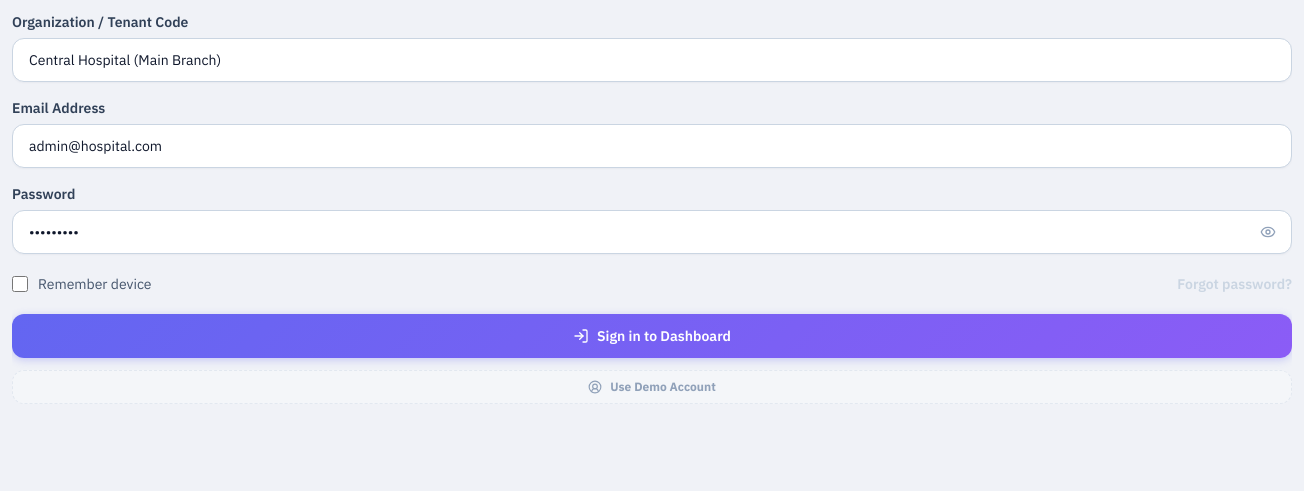
LoginForm › Form Submission › shows error message on failed login
Click the button "Sign in to Dashboard". click: (652, 336)
box: [12, 314, 1292, 358]
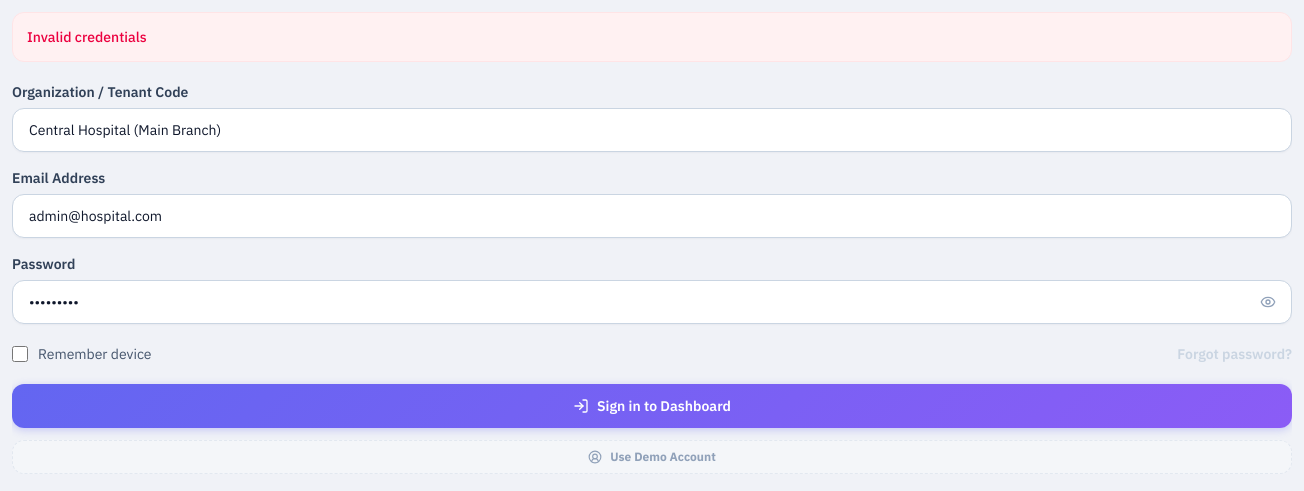
Expected: the text "Invalid credentials" is shown, [12, 12, 1292, 62]
